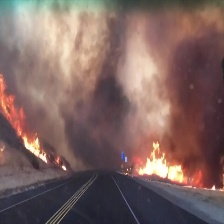fire: (3, 83, 48, 162), (135, 144, 190, 183)
smoke: (3, 1, 224, 188)
